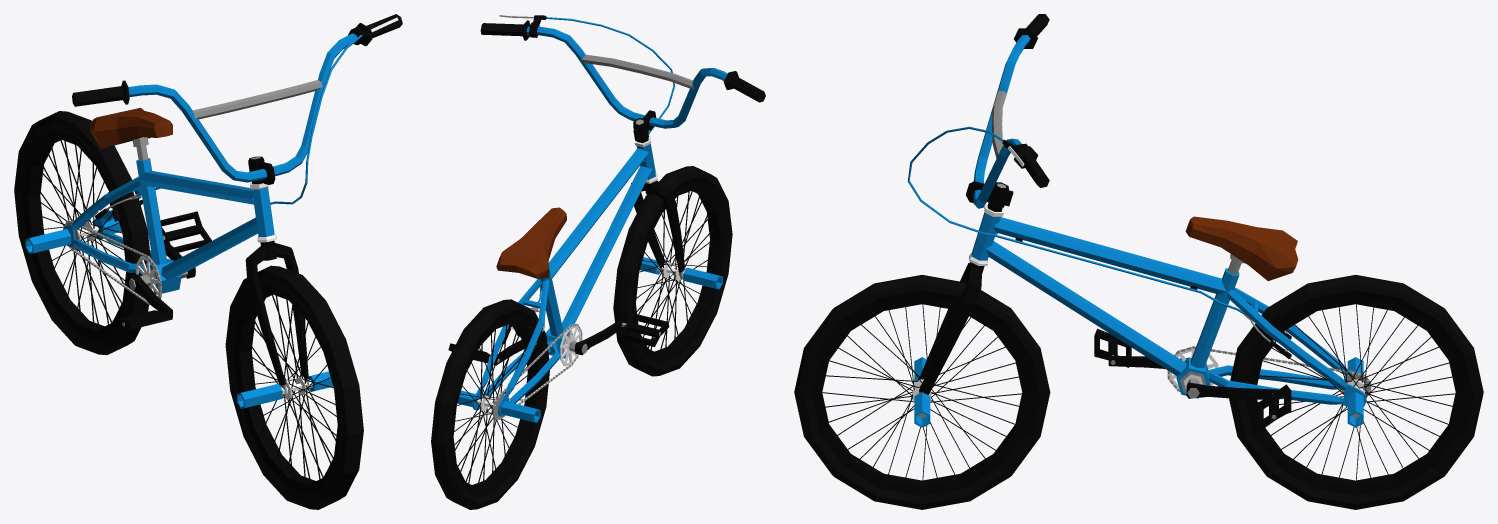
Rendered from BmxBike_01.FBX.
3 views of the same model, side by side, from view 1: azimuth 30°, elevation 25°; view 2: azimuth 150°, elevation 25°; view 3: azimuth 270°, elevation 25° (orthographic). The views are drawn at different scales.
Visible parts, largest first — view 1: wheel_f, wheel_b, BMX_Bike, handleBars, steering, saddle, crankset, pegs_f, pedal_l, pegs_b, brakeHandle, pedal_r (+1 smaller); view 2: wheel_b, wheel_f, BMX_Bike, handleBars, saddle, steering, crankset, pedal_r, brakeHandle, pegs_f, pegs_b, chain; view 3: wheel_f, wheel_b, BMX_Bike, handleBars, saddle, steering, crankset, pedal_l, brakeHandle, brake_cable, pegs_b.
Boxes of the visible parts, box(x1,y1,x2,y2) form: wheel_f: box(225, 265, 363, 509); wheel_b: box(14, 111, 150, 355); BMX_Bike: box(63, 158, 276, 294); handleBars: box(72, 14, 402, 184); steering: box(245, 156, 308, 396); saddle: box(89, 107, 172, 160); crankset: box(129, 240, 196, 318); pegs_f: box(237, 371, 333, 408); pedal_l: box(160, 211, 211, 252); pegs_b: box(25, 218, 121, 254); brakeHandle: box(270, 17, 398, 204); pedal_r: box(112, 310, 173, 329); wheel_b: box(431, 299, 549, 509); wheel_f: box(613, 166, 732, 376); BMX_Bike: box(472, 134, 657, 416); handleBars: box(480, 20, 765, 141); saddle: box(496, 207, 566, 278); steering: box(631, 118, 684, 279); crankset: box(494, 319, 624, 366); pedal_r: box(618, 313, 669, 346); brakeHandle: box(499, 14, 675, 161); pegs_f: box(639, 257, 722, 289); pegs_b: box(457, 390, 540, 422); chain: box(493, 323, 582, 420); wheel_f: box(794, 274, 1050, 509); wheel_b: box(1229, 274, 1483, 509); BMX_Bike: box(969, 203, 1366, 406); handleBars: box(966, 14, 1049, 208); saddle: box(1185, 216, 1298, 280); steering: box(918, 182, 1008, 395); crankset: box(1108, 348, 1278, 399); pedal_l: box(1256, 384, 1291, 430); brakeHandle: box(907, 126, 1028, 236); brake_cable: box(994, 234, 1245, 314); pegs_b: box(1347, 357, 1363, 427).
Size of the model in its own units: 7.91 by 9.54 by 14.1.
